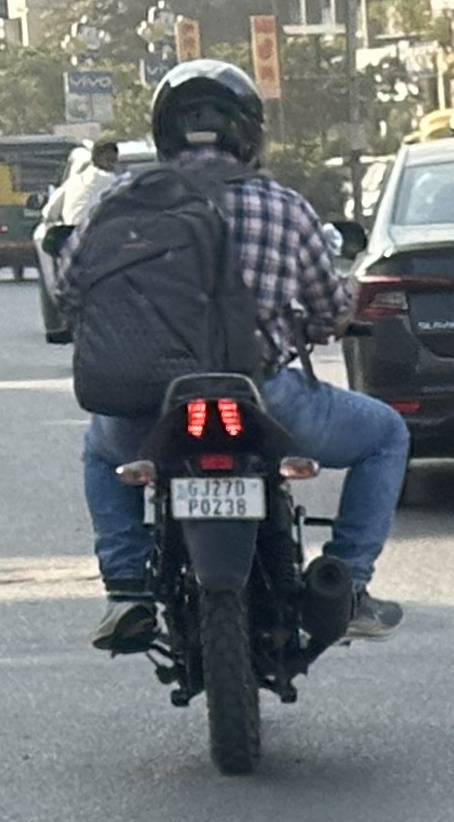BikeWithRider: (34, 54, 418, 783)
Helmet: (148, 57, 269, 166)
